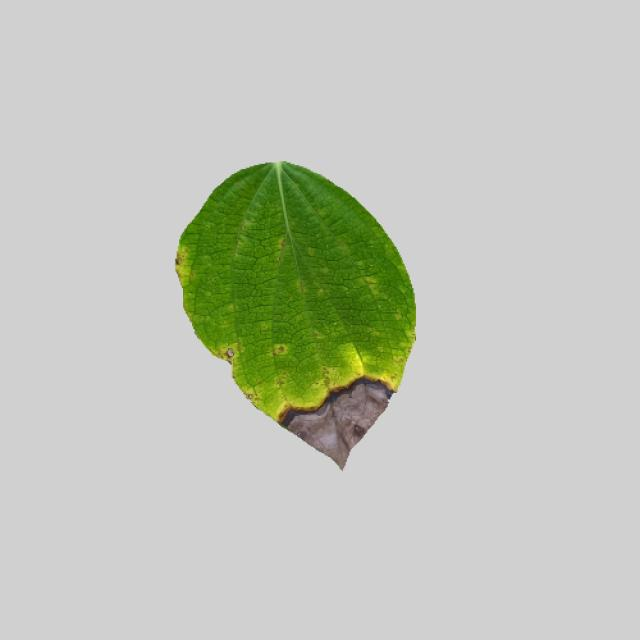leaf-blight: (158, 156, 424, 471)
